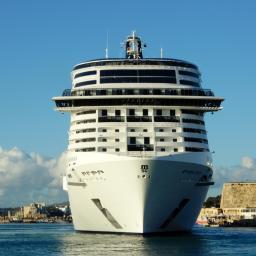cruises: (48, 32, 229, 237)
